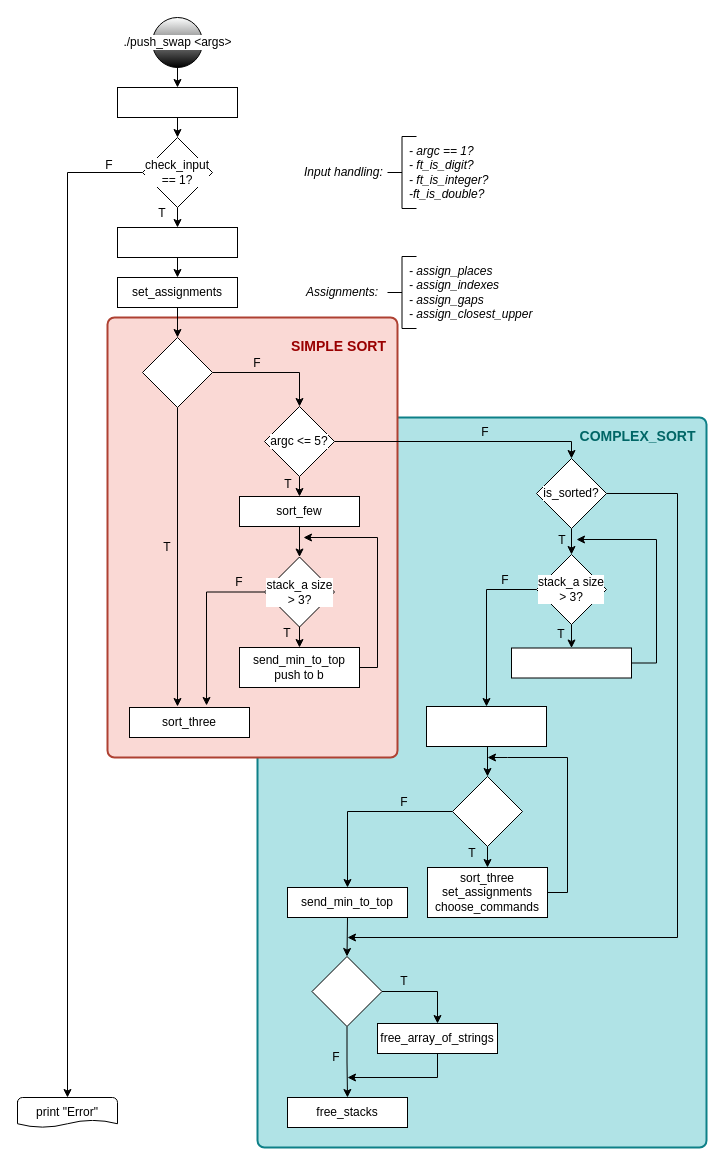
The diagram is 725 pixels wide and 1166 high, and some of its shapes have lost their labels. The centre of each missing label's shape, as x and y in pixels:
"argc <= 3?" goes at (177,372).
"argc is quoted?" goes at (346,991).
"create_and_fill_stack" goes at (177,242).
"push to b" goes at (571,662).
"sort_three set_assignments" goes at (486,726).
"split_if_quoted_args" goes at (177,102).
"stack_b?" goes at (487,811).
